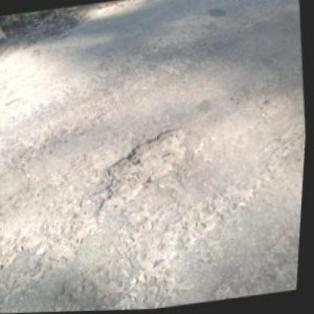Hueco: (90, 124, 197, 214)
